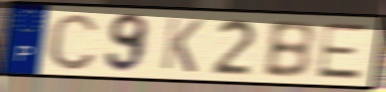2: (210, 18, 259, 77)
9: (105, 11, 153, 75)
B: (260, 19, 317, 80)
C: (45, 10, 101, 72)
E: (313, 21, 371, 82)
K: (158, 16, 205, 75)
